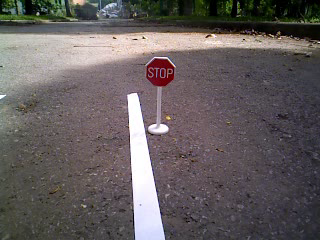Stop: (145, 55, 176, 88)
